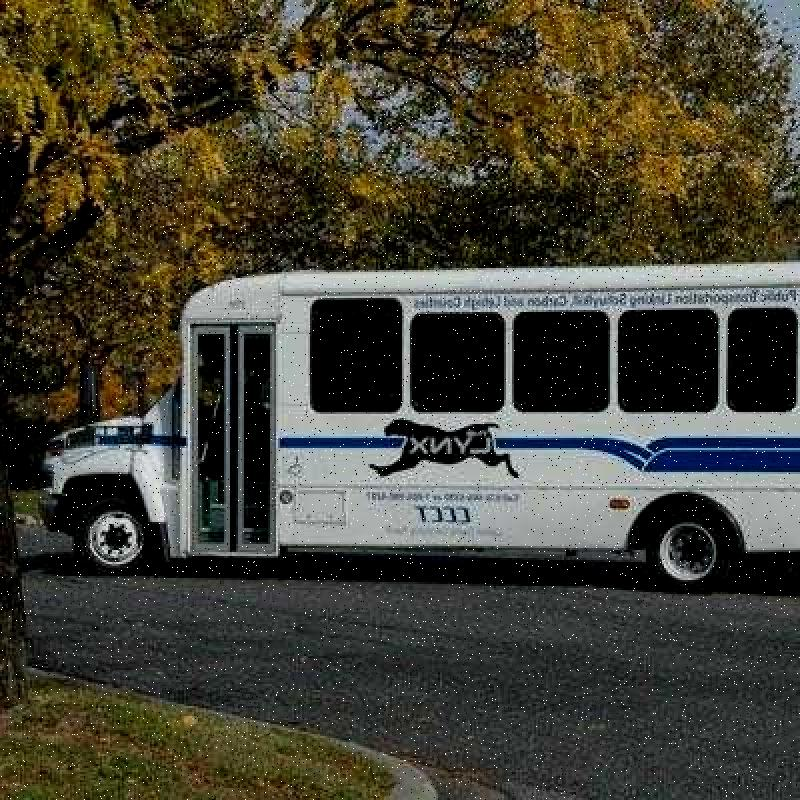bus: (5, 233, 794, 616)
